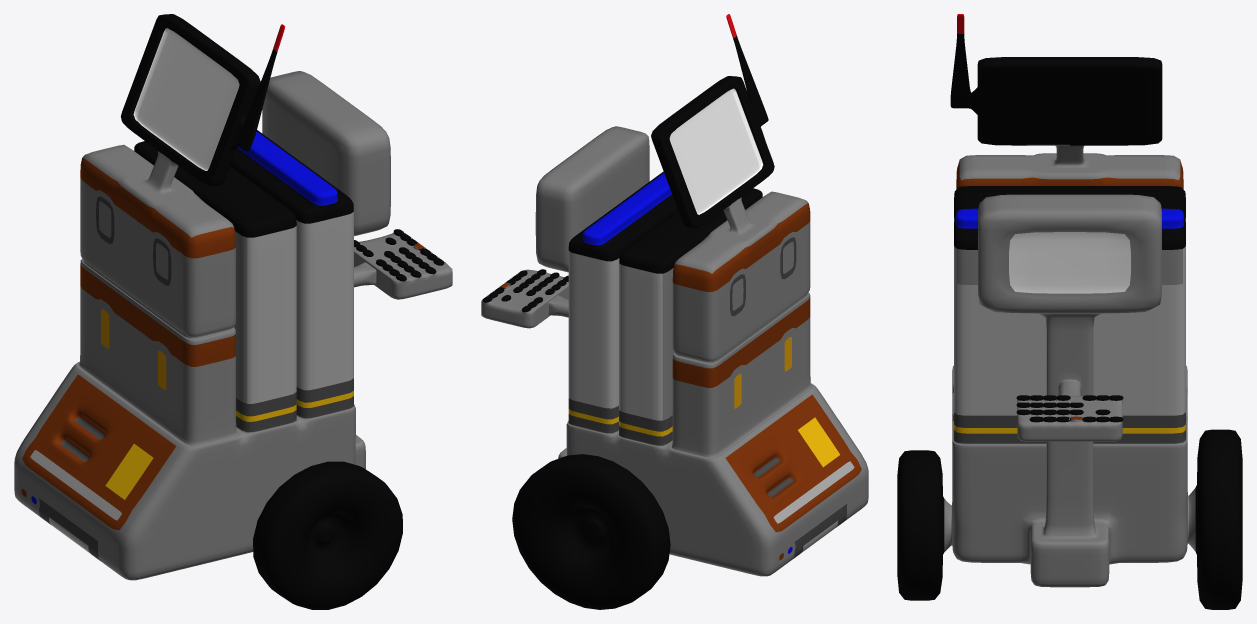
The model's file is SlowEnemy.fbx.
3 views of the same model, side by side, from view 1: azimuth 30°, elevation 25°; view 2: azimuth 150°, elevation 25°; view 3: azimuth 270°, elevation 25° (orthographic). The views are drawn at different scales.
Visible parts, largest first — view 1: SlowEnemy; view 2: SlowEnemy; view 3: SlowEnemy.
Boxes of the visible parts, x1,y1,x2,y2 form: SlowEnemy: (14, 14, 452, 609); SlowEnemy: (481, 14, 868, 609); SlowEnemy: (897, 14, 1242, 609).
Bounding box in the file's own units: 123 × 188 × 102.
